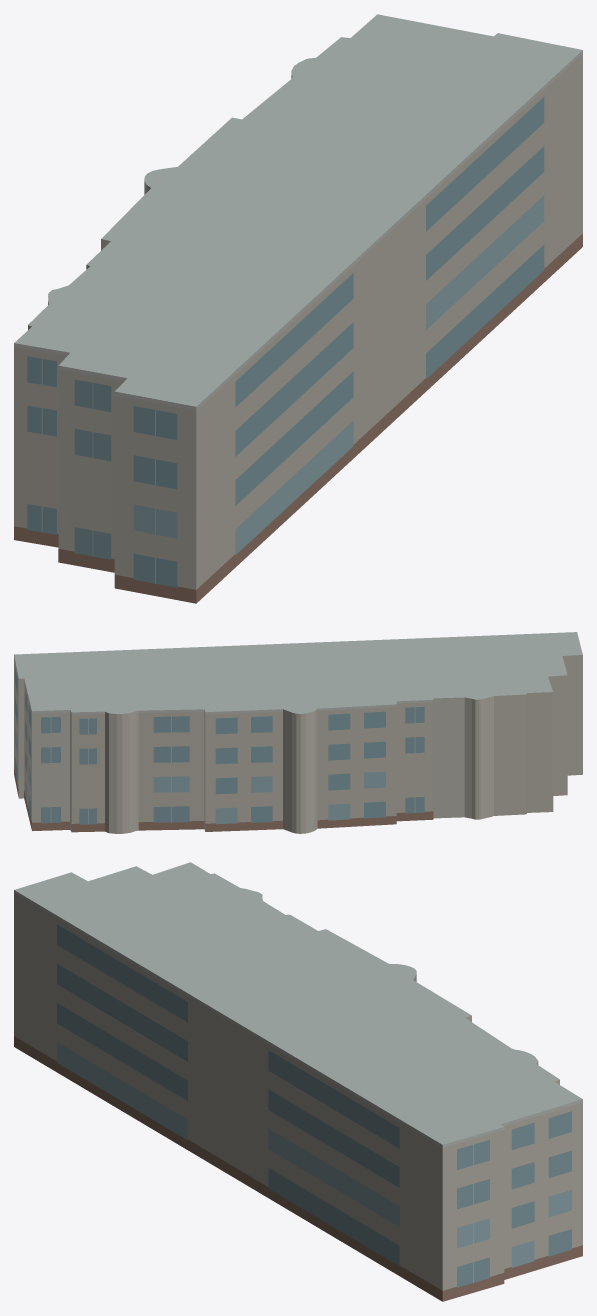
File: survey-upis-32720014.glb
3 renders of one model, top to bottom at view 1: azimuth 30°, elevation 25°; view 2: azimuth 150°, elevation 25°; view 3: azimuth 270°, elevation 25°, orthographic. The views are drawn at different scales.
Visible parts, largest first — view 1: survey-upis-32720014.tmp; view 2: survey-upis-32720014.tmp; view 3: survey-upis-32720014.tmp.
Part boxes in pixels (x1,y1,x2,y2): survey-upis-32720014.tmp: (14,14,582,603); survey-upis-32720014.tmp: (14,632,582,833); survey-upis-32720014.tmp: (14,862,582,1301).
Size of the model in its own units: 47.15 by 12.2 by 40.09.
